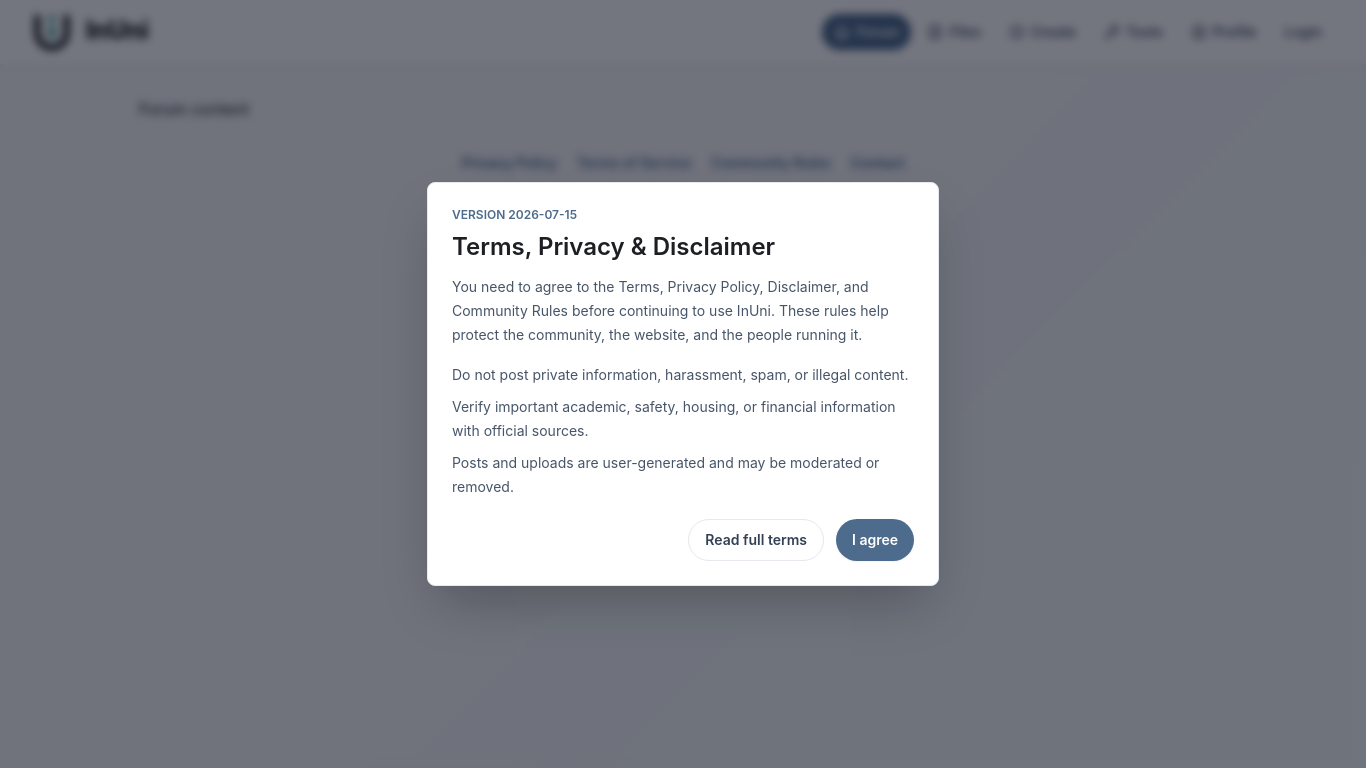
AppLayout › blocks first-time visitors with the legal agreement gate
Check: the text "You need to agree" is shown, box top-left (452, 278), bottom-right (889, 343)
Step 1. Click the button "I agree" → click(875, 540), box top-left (836, 519), bottom-right (914, 561)
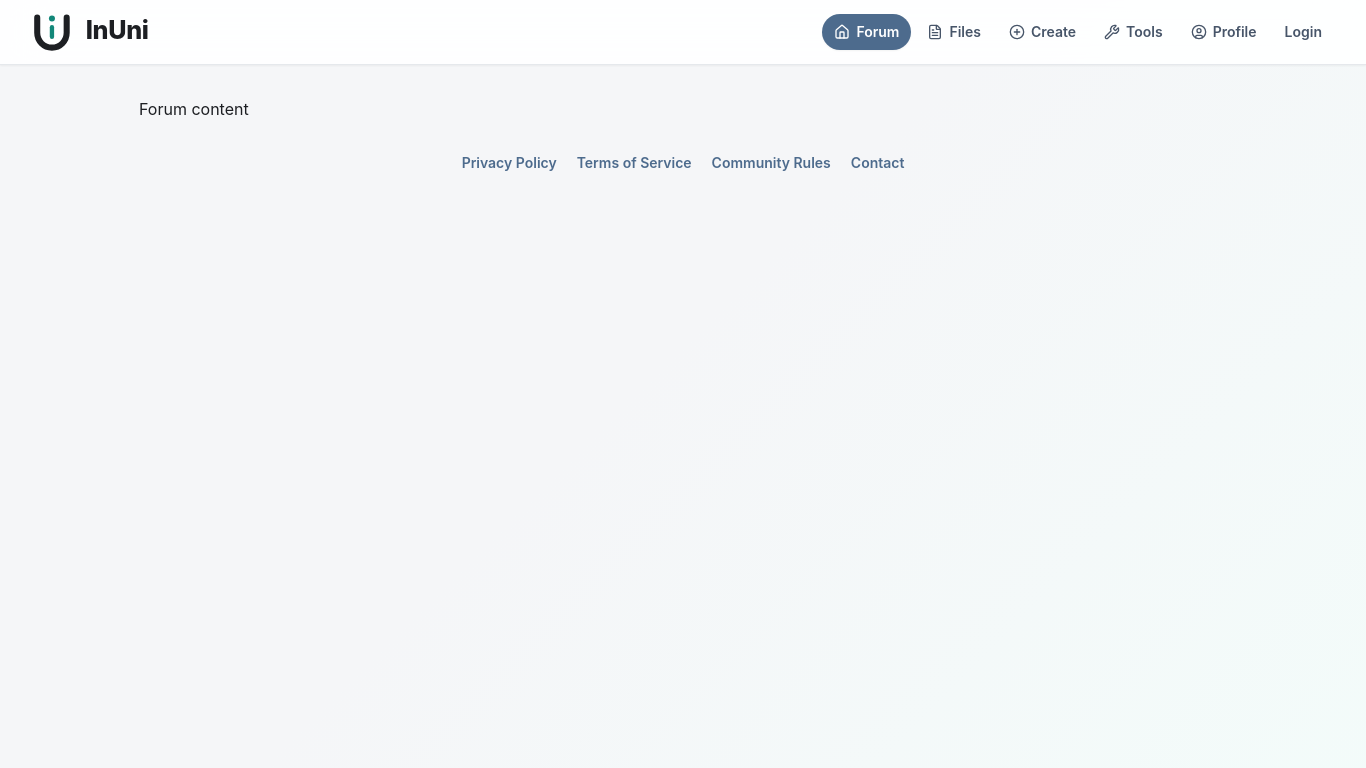
Check: the heading "Terms, Privacy & Disclaimer" is gone
